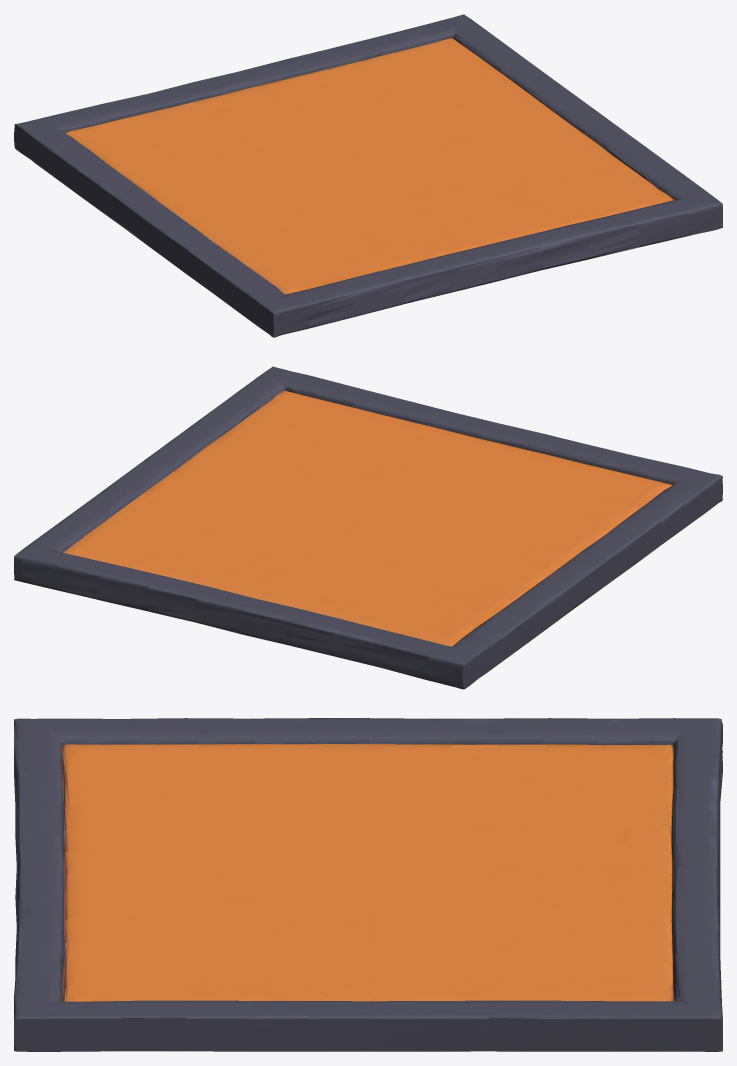
Rendered from armoredFoundation.glb.
3 renders of one model, top to bottom at view 1: azimuth 30°, elevation 25°; view 2: azimuth 150°, elevation 25°; view 3: azimuth 270°, elevation 25°, orthographic. The views are drawn at different scales.
Bounding box in the file's own units: 2.9 × 0.16 × 2.9.
1 material, 1 textured.
